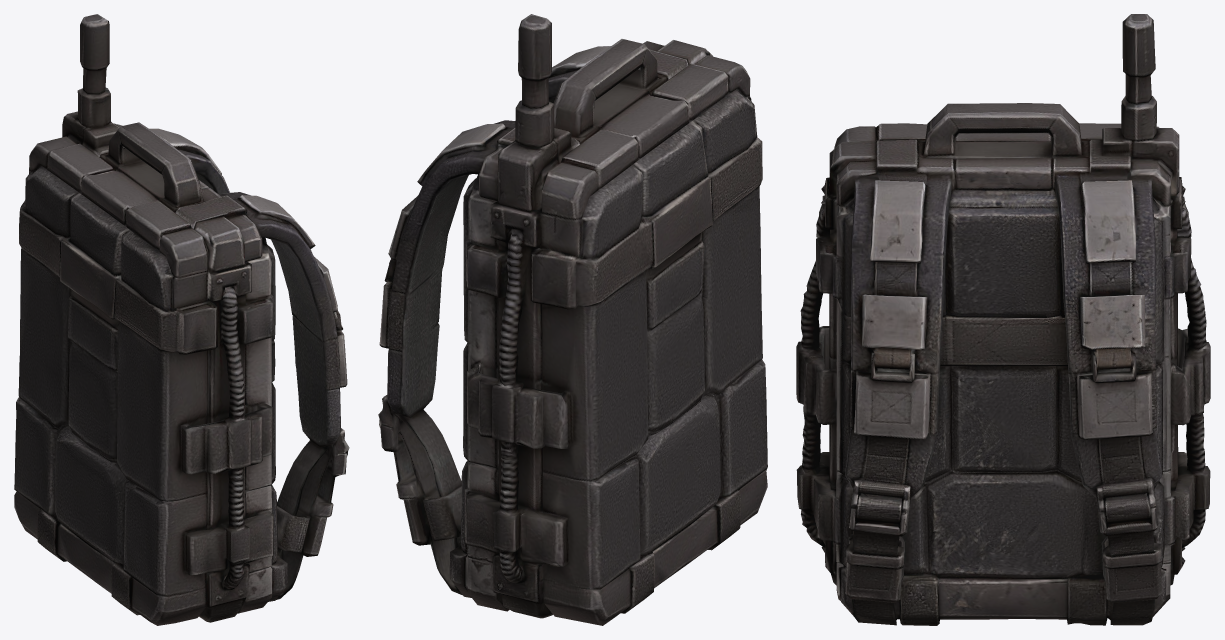
File: PROP-RADIO-PACK.glb
3 renders of one model, left to right at view 1: azimuth 30°, elevation 25°; view 2: azimuth 150°, elevation 25°; view 3: azimuth 270°, elevation 25°, orthographic. The views are drawn at different scales.
Parts seen in each view (by area): view 1: tripo_node_1301e9a7-c909-4b44-9218-0160fbd9a0cb; view 2: tripo_node_1301e9a7-c909-4b44-9218-0160fbd9a0cb; view 3: tripo_node_1301e9a7-c909-4b44-9218-0160fbd9a0cb.
Part boxes in pixels (x1,y1,x2,y2): tripo_node_1301e9a7-c909-4b44-9218-0160fbd9a0cb: [14, 14, 349, 625]; tripo_node_1301e9a7-c909-4b44-9218-0160fbd9a0cb: [378, 14, 767, 625]; tripo_node_1301e9a7-c909-4b44-9218-0160fbd9a0cb: [796, 14, 1210, 625].
Bounding box in the file's own units: 0.4201 × 1 × 0.6496.
Materials: 1 (1 with a texture image).
